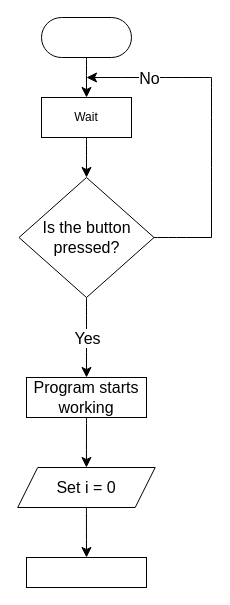
The diagram is 230 pixels wide and 605 high, and some of its shapes have lost their labels. Each missing label, with the box of its shape:
Start: (40, 16, 132, 58)
Walk forward: (26, 556, 146, 588)
